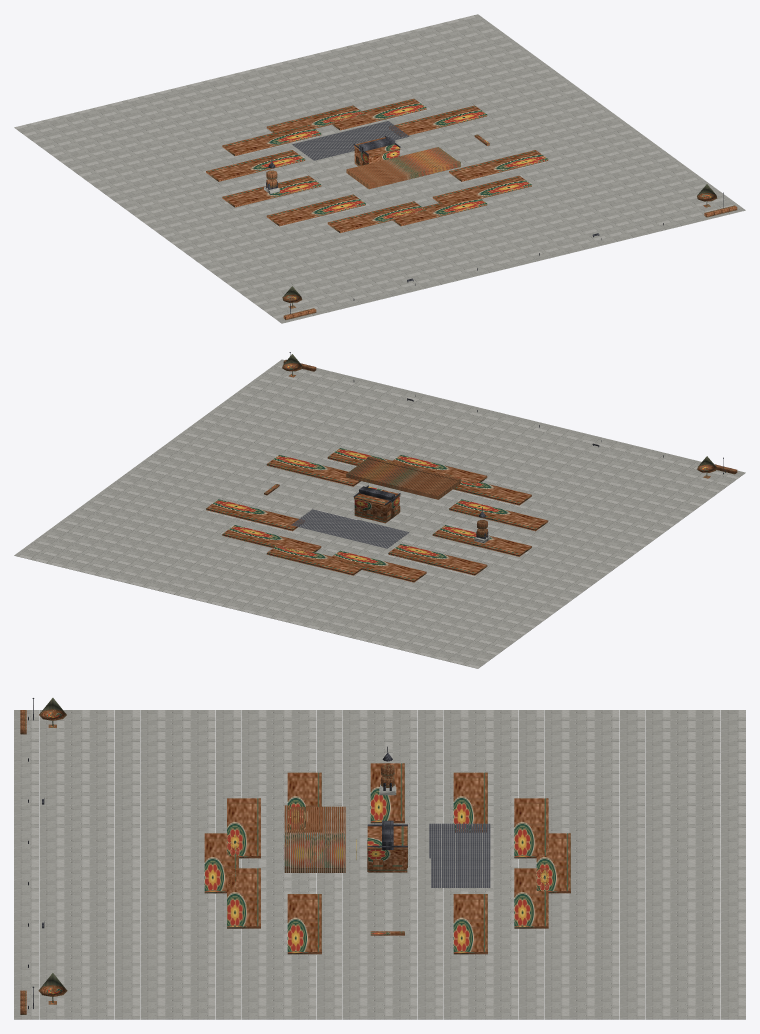
The picture shows the model from 3 angles, top to bottom: view 1: azimuth 30°, elevation 25°; view 2: azimuth 150°, elevation 25°; view 3: azimuth 270°, elevation 25°; orthographic projection. The views are drawn at different scales.
Parts seen in each view (by area): view 1: 11710_01_05718_042_01__plinth_ground_base, 11710_01_05718_042_02__mass_body_facade, 11710_01_05718_042_03__roof_deck_structure, 11710_01_05718_042_06__landscape_greenery; view 2: 11710_01_05718_042_01__plinth_ground_base, 11710_01_05718_042_02__mass_body_facade, 11710_01_05718_042_03__roof_deck_structure, 11710_01_05718_042_06__landscape_greenery; view 3: 11710_01_05718_042_01__plinth_ground_base, 11710_01_05718_042_02__mass_body_facade, 11710_01_05718_042_03__roof_deck_structure, 11710_01_05718_042_06__landscape_greenery, 11710_01_05718_042_03__roof_metal_ornament.
Part boxes in pixels (left/top/right/bottom): 11710_01_05718_042_01__plinth_ground_base: left=14, top=14, right=745, bottom=323; 11710_01_05718_042_02__mass_body_facade: left=206, top=98, right=548, bottom=233; 11710_01_05718_042_03__roof_deck_structure: left=292, top=121, right=409, bottom=160; 11710_01_05718_042_06__landscape_greenery: left=282, top=184, right=737, bottom=319; 11710_01_05718_042_01__plinth_ground_base: left=14, top=359, right=745, bottom=668; 11710_01_05718_042_02__mass_body_facade: left=206, top=448, right=548, bottom=582; 11710_01_05718_042_03__roof_deck_structure: left=291, top=509, right=409, bottom=548; 11710_01_05718_042_06__landscape_greenery: left=282, top=354, right=737, bottom=478; 11710_01_05718_042_01__plinth_ground_base: left=14, top=710, right=745, bottom=1019; 11710_01_05718_042_02__mass_body_facade: left=204, top=763, right=570, bottom=954; 11710_01_05718_042_03__roof_deck_structure: left=429, top=823, right=490, bottom=887; 11710_01_05718_042_06__landscape_greenery: left=20, top=698, right=67, bottom=1014; 11710_01_05718_042_03__roof_metal_ornament: left=367, top=746, right=407, bottom=849.
Bounding box in the file's own units: 150 × 10.8 × 150.
7 materials, 7 textured.
